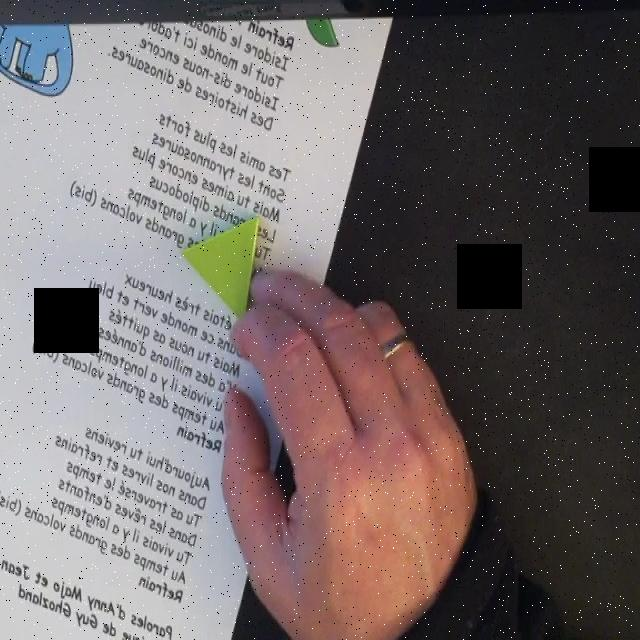triangle: (177, 213, 261, 326)
